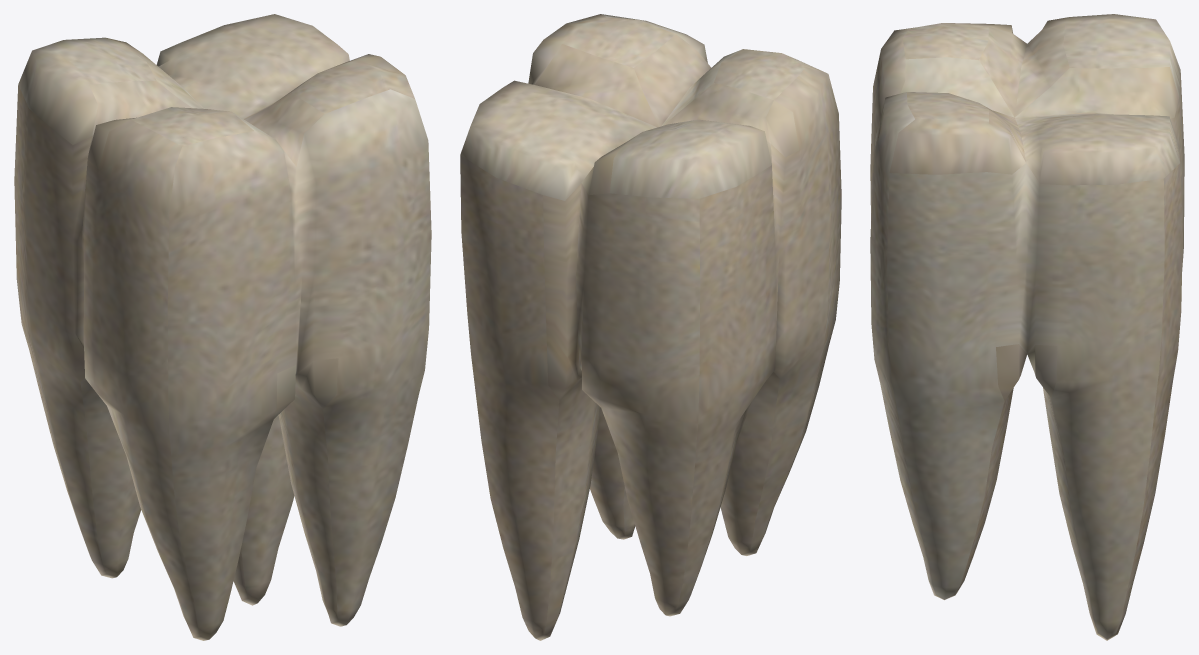
The model's file is tooth.FBX.
3 views of the same model, side by side, from view 1: azimuth 30°, elevation 25°; view 2: azimuth 150°, elevation 25°; view 3: azimuth 270°, elevation 25° (orthographic). The views are drawn at different scales.
Visible parts, largest first — view 1: Box002; view 2: Box002; view 3: Box002.
Boxes of the visible parts, x1=… form: Box002: x1=14, y1=14, x2=431, y2=640; Box002: x1=460, y1=14, x2=841, y2=640; Box002: x1=870, y1=14, x2=1184, y2=640.
Size of the model in its own units: 9.91 by 10.02 by 19.
